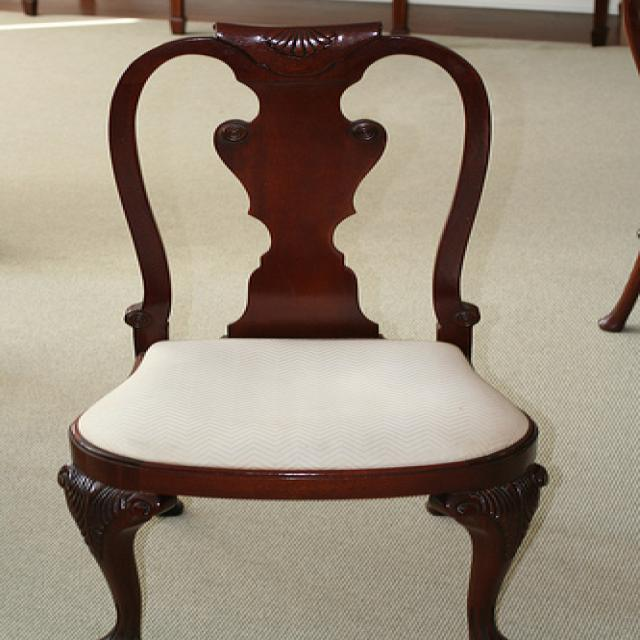chair: (56, 21, 550, 638)
